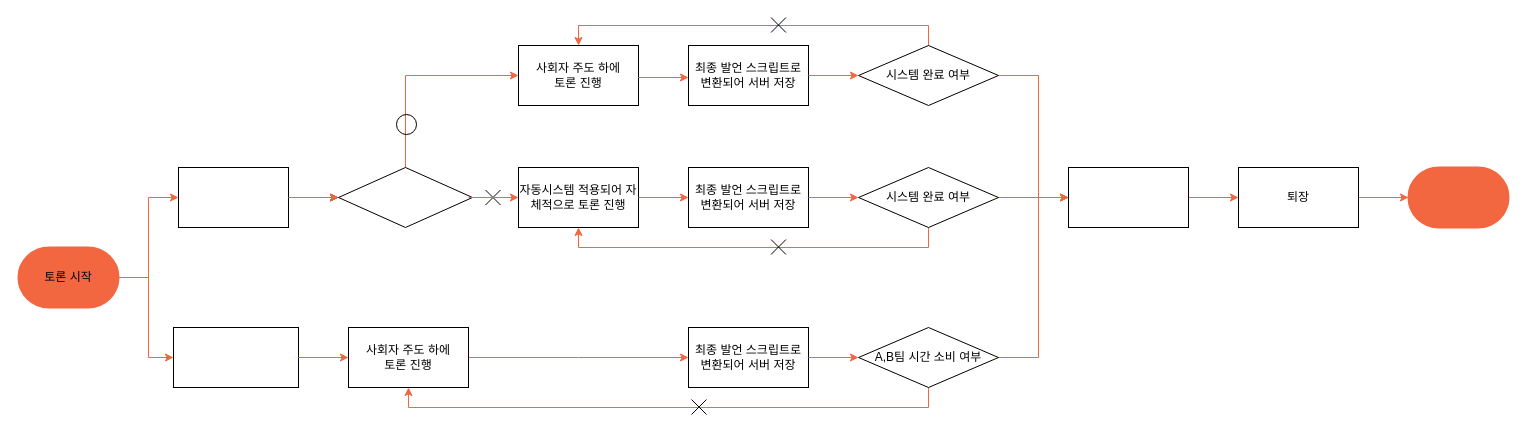
The diagram is 1526 pixels wide and 433 high, and some of its shapes have lost their labels. Each missing label, with the centre of its shape:
"CEDA 토론" goes at [233,197].
"사회자참여모드" goes at [405,197].
"시간총량제 토론 모드" goes at [235,357].
"토론 끝" goes at [1458,197].
"평가" goes at [1128,197].
